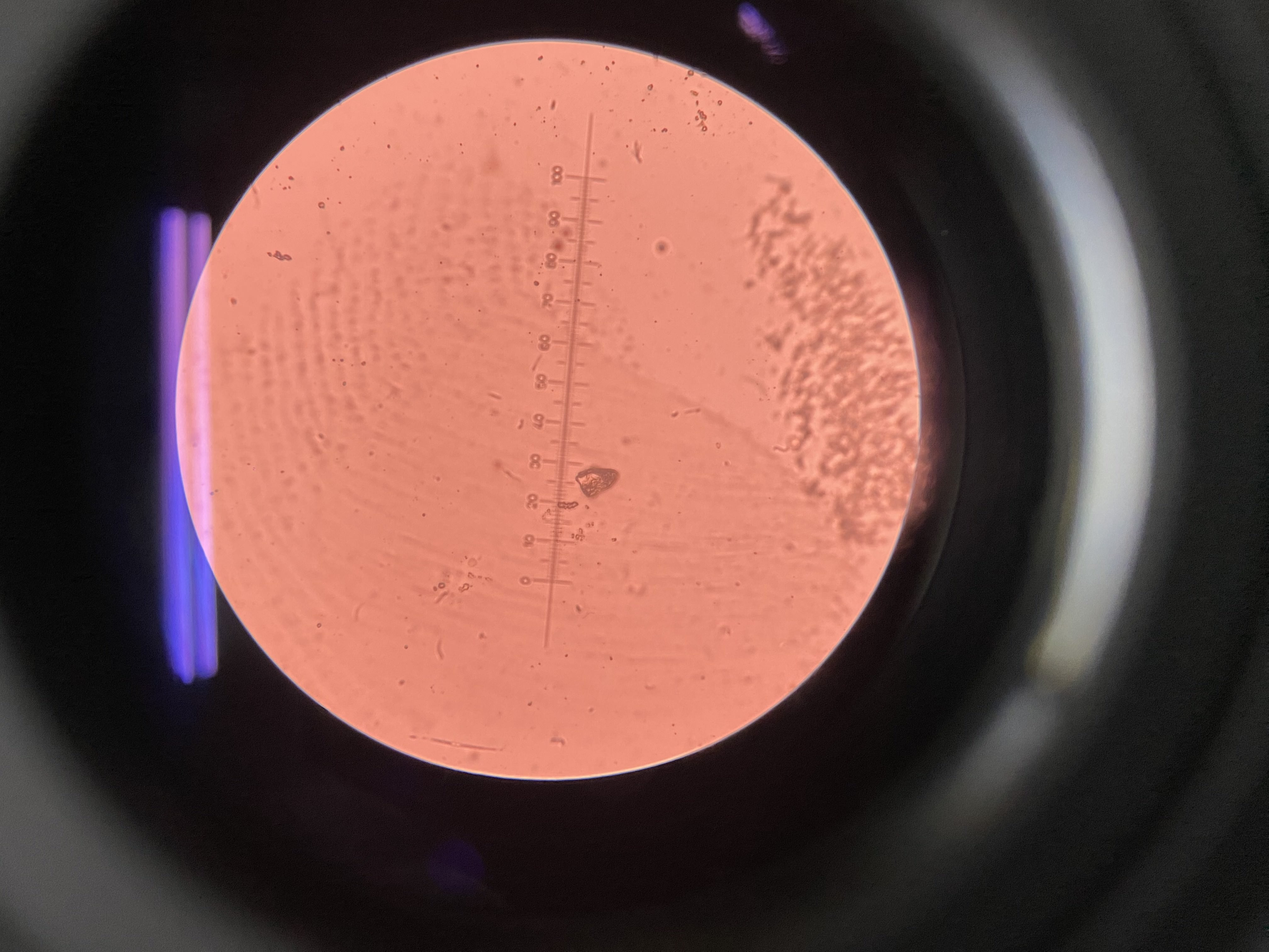not_microplastic: (748, 178, 931, 537), (576, 461, 628, 497), (434, 579, 472, 598), (695, 106, 710, 136), (268, 249, 292, 264), (629, 141, 645, 163), (556, 499, 582, 512), (657, 235, 674, 254), (466, 553, 478, 563)
